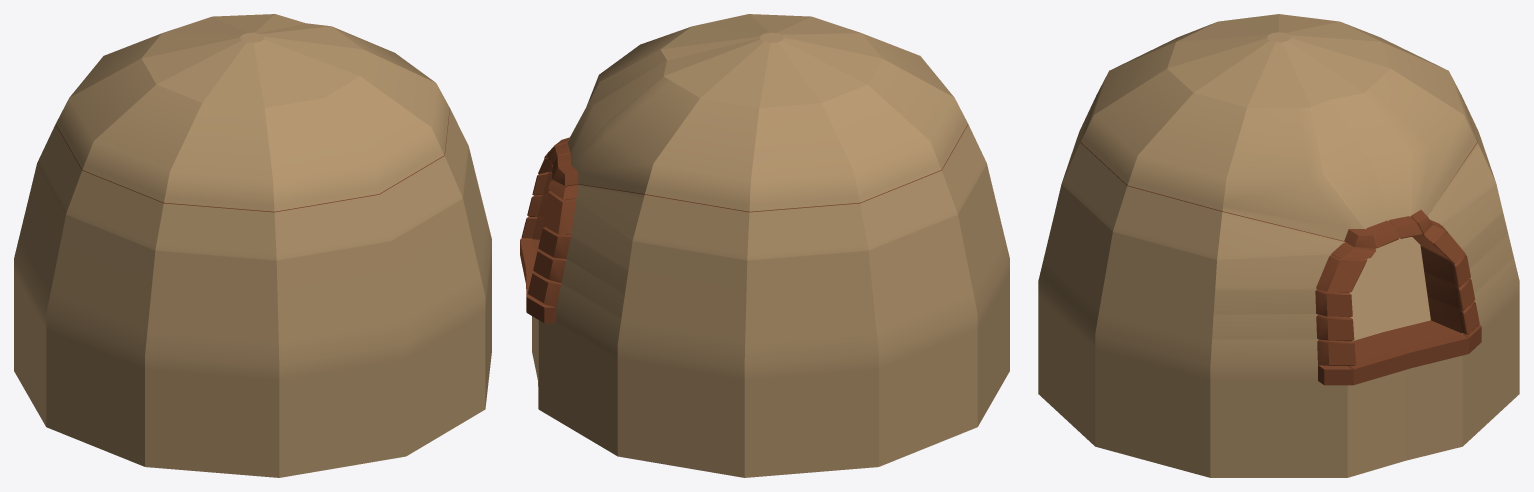
The model's file is Tavern_Oven.fbx.
3 views of the same model, side by side, from view 1: azimuth 30°, elevation 25°; view 2: azimuth 150°, elevation 25°; view 3: azimuth 270°, elevation 25° (orthographic).
Parts seen in each view (by area): view 1: pasted__pCylinder3; view 2: pasted__pCylinder3; view 3: pasted__pCylinder3.
Boxes of the visible parts, <box> form: pasted__pCylinder3: <box>14,14,491,477</box>; pasted__pCylinder3: <box>520,14,1009,477</box>; pasted__pCylinder3: <box>1038,14,1519,477</box>.
Bounding box in the file's own units: 1.03 × 0.793 × 1.02.
